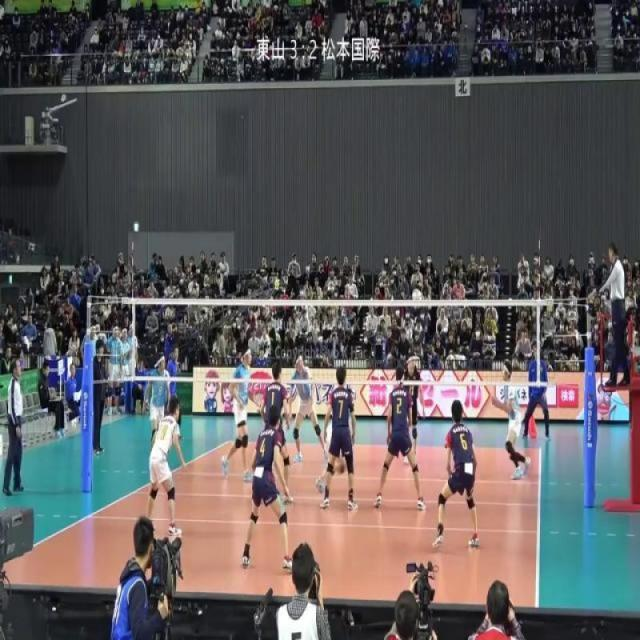volleyball: (412, 287, 424, 310)
